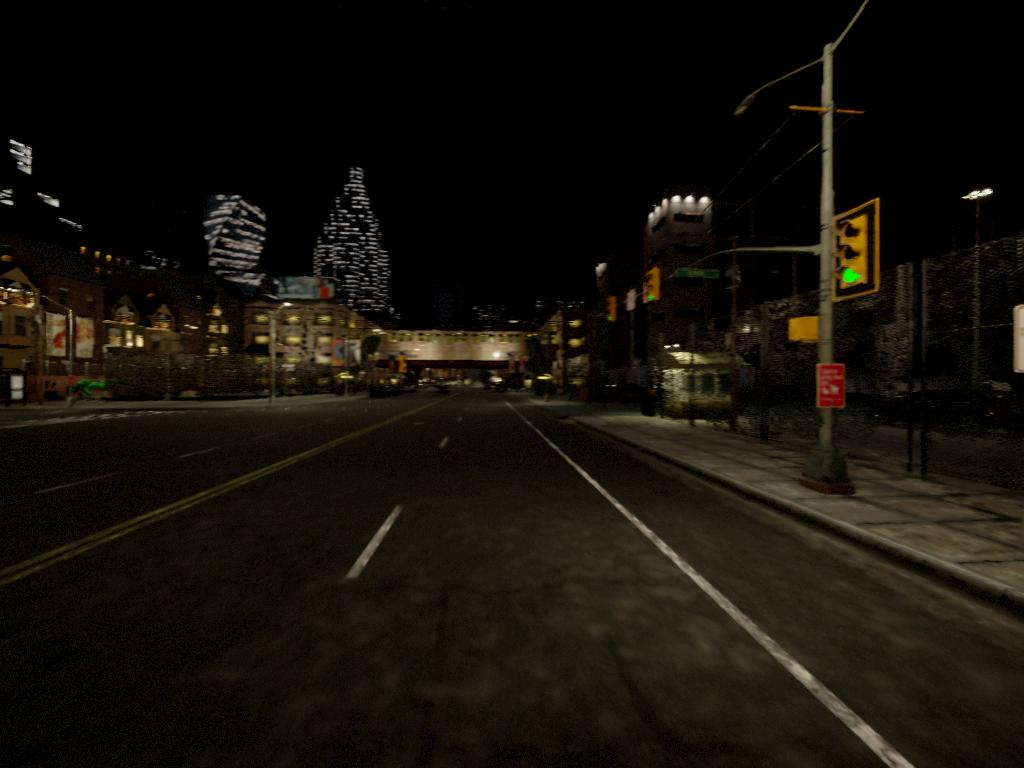traffic_light: (838, 208, 878, 299), (644, 271, 664, 305), (605, 297, 618, 324)
